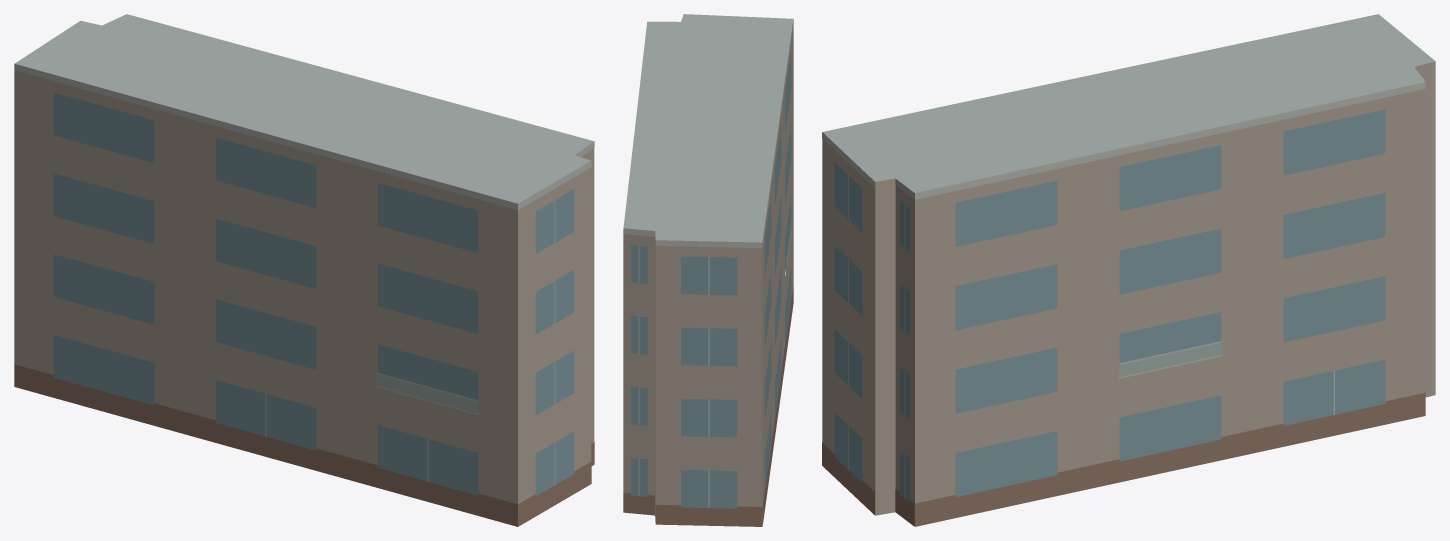
The model's file is survey-upis-32631735.glb.
3 views of the same model, side by side, from view 1: azimuth 30°, elevation 25°; view 2: azimuth 150°, elevation 25°; view 3: azimuth 270°, elevation 25° (orthographic). The views are drawn at different scales.
Visible parts, largest first — view 1: survey-upis-32631735.tmp; view 2: survey-upis-32631735.tmp; view 3: survey-upis-32631735.tmp.
Boxes of the visible parts, box(x1,y1,x2,y2) form: survey-upis-32631735.tmp: box(14, 14, 594, 526); survey-upis-32631735.tmp: box(623, 14, 793, 526); survey-upis-32631735.tmp: box(822, 14, 1435, 526).
Size of the model in its own units: 14.06 by 12.2 by 20.33.
